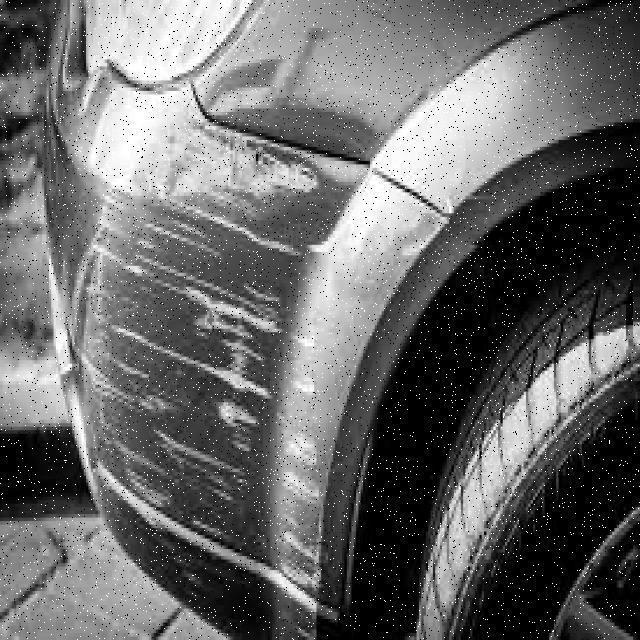front-bumper-dent: (30, 137, 442, 637)
